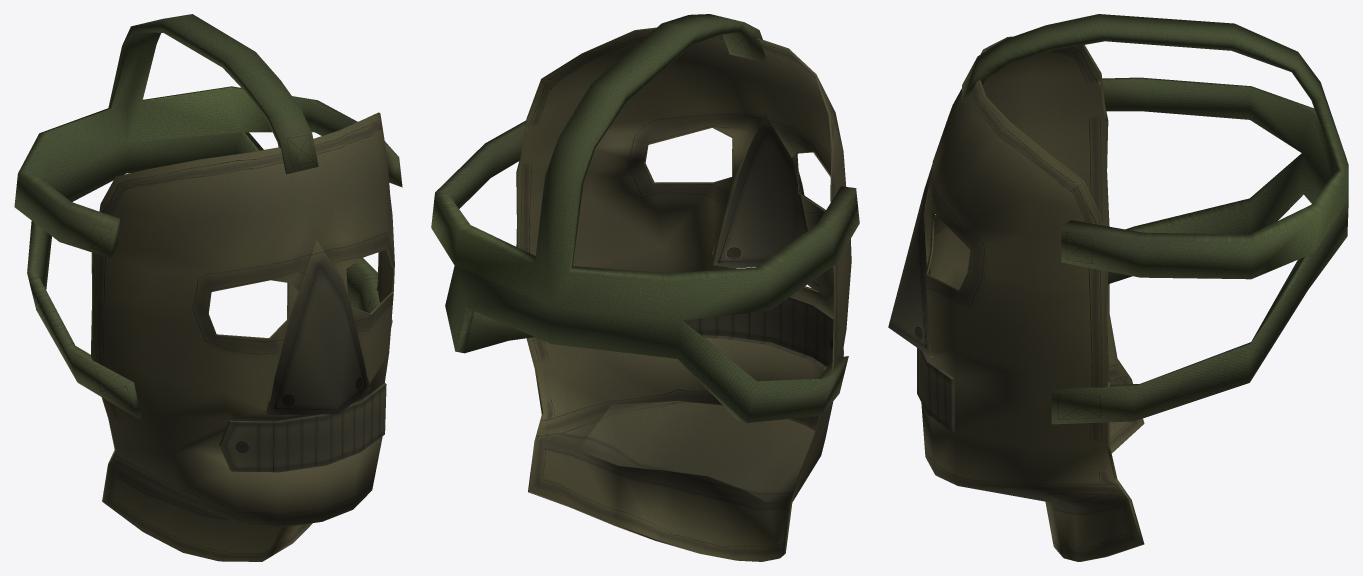
The model's file is M_ExtremeColdWeather.fbx.
3 views of the same model, side by side, from view 1: azimuth 30°, elevation 25°; view 2: azimuth 150°, elevation 25°; view 3: azimuth 270°, elevation 25° (orthographic). The views are drawn at different scales.
Parts seen in each view (by area): view 1: Circle.007; view 2: Circle.007; view 3: Circle.007.
Part boxes in pixels (x1,y1,x2,y2): Circle.007: [14, 14, 402, 561]; Circle.007: [431, 14, 859, 561]; Circle.007: [888, 14, 1348, 561].
Bounding box in the file's own units: 0.1983 × 0.1355 × 0.158.
